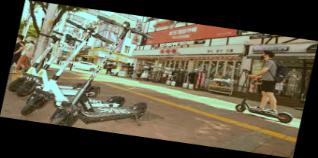nonhelmet: (229, 45, 309, 126)
